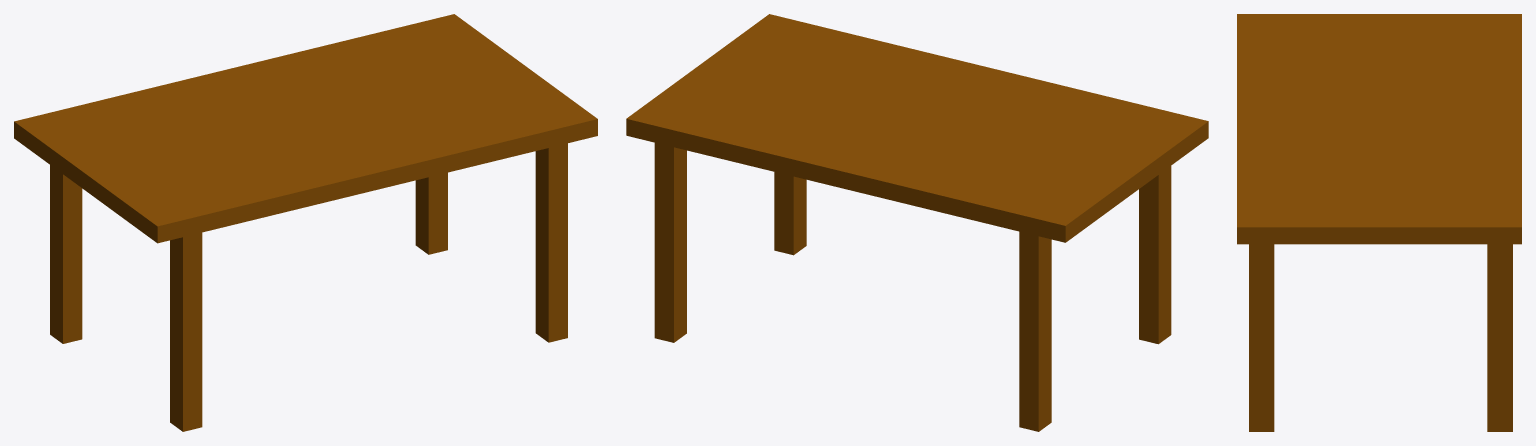
The model's file is table.fbx.
The picture shows the model from 3 angles, left to right: view 1: azimuth 30°, elevation 25°; view 2: azimuth 150°, elevation 25°; view 3: azimuth 270°, elevation 25°; orthographic projection.
Parts seen in each view (by area): view 1: Cube.001; view 2: Cube.001; view 3: Cube.001.
Boxes of the visible parts, x1,y1,x2,y2 form: Cube.001: (14, 14, 597, 431); Cube.001: (626, 14, 1208, 431); Cube.001: (1237, 14, 1521, 431).
Bounding box in the file's own units: 460 × 217 × 260.
